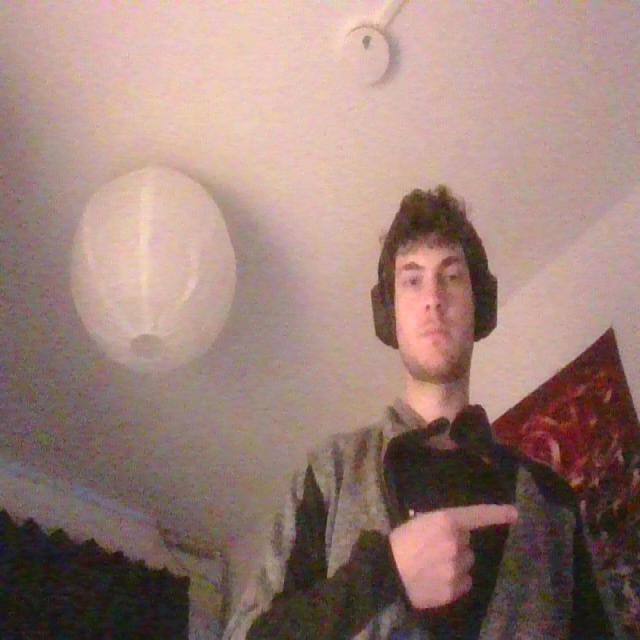right: (388, 499, 524, 614)
